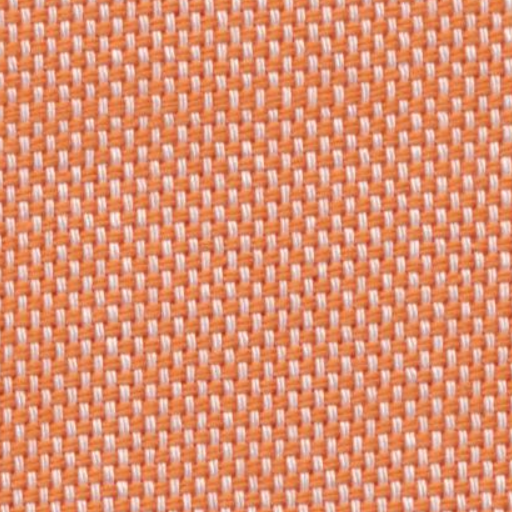TuoSha: (16, 59, 496, 151)
